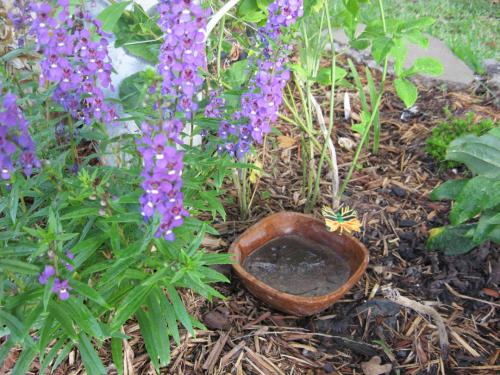container: (223, 207, 378, 321)
water: (239, 228, 358, 297)
